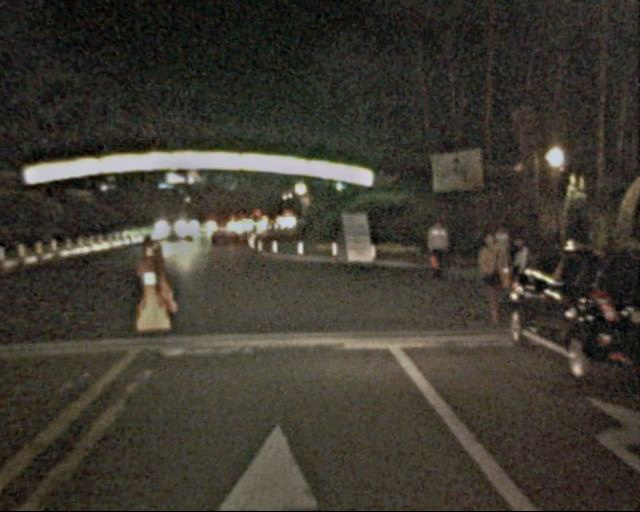person: (475, 235, 510, 320), (500, 234, 537, 314), (425, 218, 454, 281)
